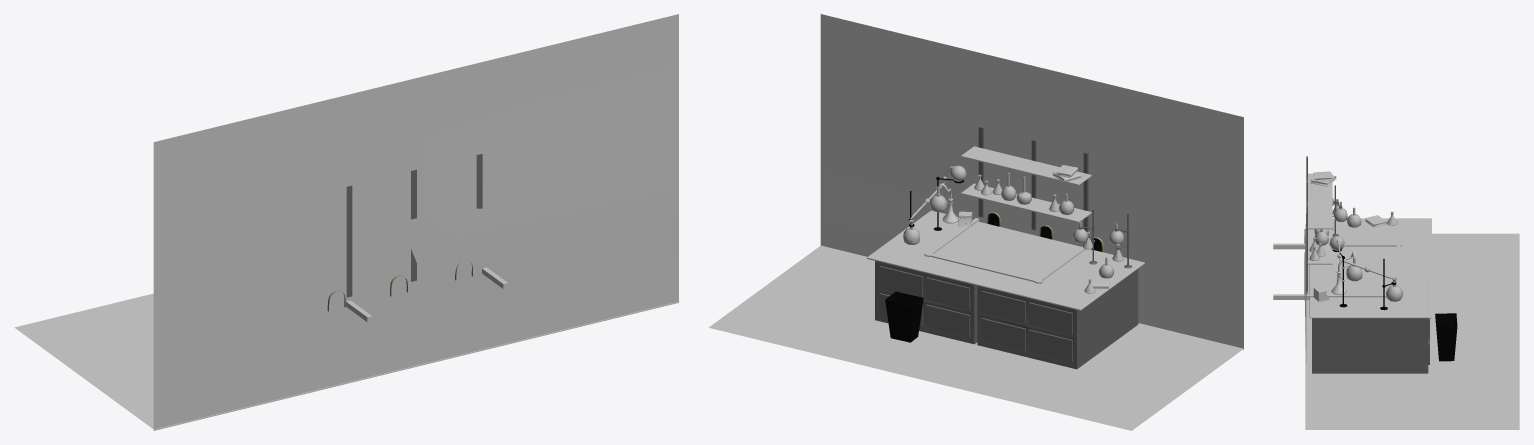
Rendered from MuffinEnvironment.fbx.
3 views of the same model, side by side, from view 1: azimuth 30°, elevation 25°; view 2: azimuth 150°, elevation 25°; view 3: azimuth 270°, elevation 25° (orthographic). The views are drawn at different scales.
Parts seen in each view (by area): view 1: GeoWall, GeoFloor, GeoClamps, MuffinScene:go_sat; view 2: GeoWall, GeoFloor, GeoTable, GeoCabins2, GeoCabins1, MuffinScene:go_sat, GeoTrashCan, GeoShelf1, GeoShelf2, GeoClamps, MuffinScene:Cube; view 3: GeoFloor, GeoTable, GeoCabins1, GeoShelf1, MuffinScene:Cube, GeoTrashCan, GeoShelf2, GeoWall, GeoClamps, GeoBunsen12, GeoBunsen11.
Part boxes in pixels (bbox=[...]): GeoWall: bbox=[153, 14, 678, 430]; GeoFloor: bbox=[14, 293, 679, 429]; GeoClamps: bbox=[346, 153, 482, 297]; MuffinScene:go_sat: bbox=[372, 237, 435, 284]; GeoWall: bbox=[820, 14, 1243, 349]; GeoFloor: bbox=[709, 245, 1243, 430]; GeoTable: bbox=[867, 210, 1144, 310]; GeoCabins2: bbox=[977, 269, 1138, 369]; GeoCabins1: bbox=[875, 261, 977, 344]; MuffinScene:go_sat: bbox=[978, 177, 1083, 246]; GeoTrashCan: bbox=[885, 291, 923, 342]; GeoShelf1: bbox=[961, 146, 1091, 185]; GeoShelf2: bbox=[961, 183, 1091, 222]; GeoClamps: bbox=[978, 126, 1088, 231]; MuffinScene:Cube: bbox=[924, 218, 1085, 283]; GeoFloor: bbox=[1305, 233, 1519, 429]; GeoTable: bbox=[1309, 218, 1431, 318]; GeoCabins1: bbox=[1312, 318, 1429, 373]; GeoShelf1: bbox=[1307, 173, 1332, 229]; MuffinScene:Cube: bbox=[1273, 242, 1401, 299]; GeoTrashCan: bbox=[1435, 313, 1457, 361]; GeoShelf2: bbox=[1307, 229, 1332, 264]; GeoWall: bbox=[1304, 213, 1306, 363]; GeoClamps: bbox=[1306, 156, 1307, 291]; GeoBunsen12: bbox=[1386, 277, 1402, 301]; GeoBunsen11: bbox=[1346, 258, 1362, 281].
Size of the model in its own units: 108 by 56.83 by 57.4.
